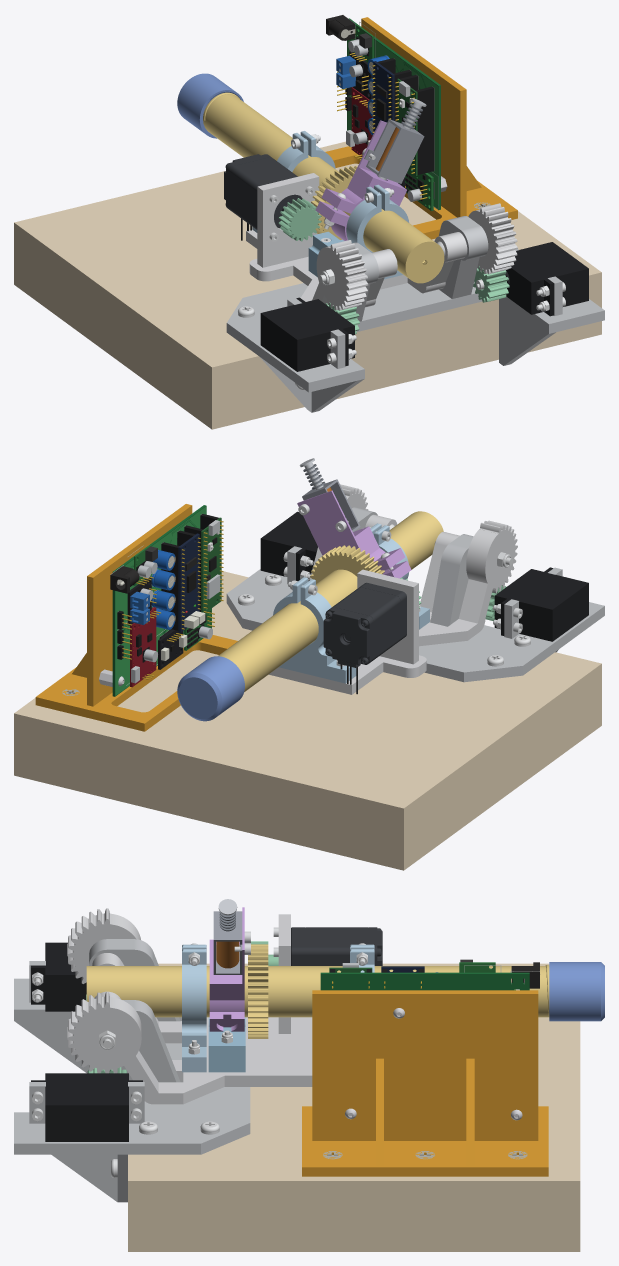
The model's file is assembly_current.glb.
3 views of the same model, one above another, from view 1: azimuth 30°, elevation 25°; view 2: azimuth 150°, elevation 25°; view 3: azimuth 270°, elevation 25° (orthographic). The views are drawn at different scales.
Parts seen in each view (by area): view 1: assembly_current (×23); view 2: assembly_current (×25); view 3: assembly_current (×15).
Part boxes in pixels (x1=…): assembly_current (×23): x1=14, y1=17, x2=604, y2=429; assembly_current (×25): x1=14, y1=479, x2=604, y2=870; assembly_current (×15): x1=14, y1=907, x2=604, y2=1251.
Size of the model in its own units: 0.25 by 0.1479 by 0.2874.
